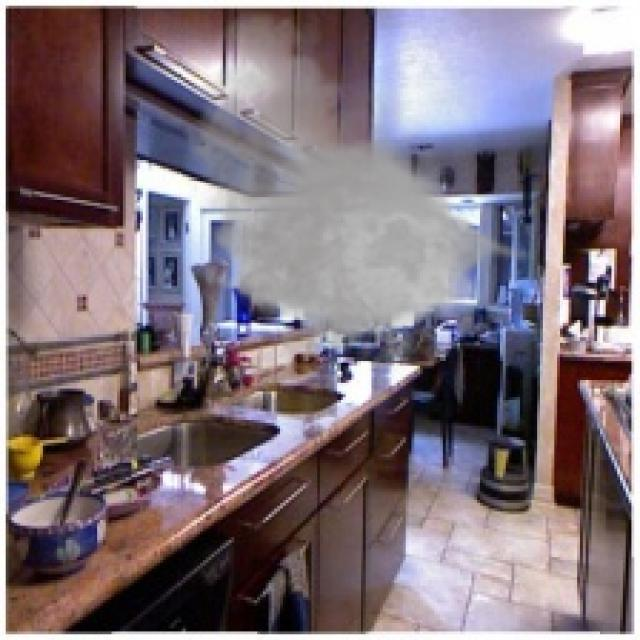Smoke: (177, 6, 537, 383)
